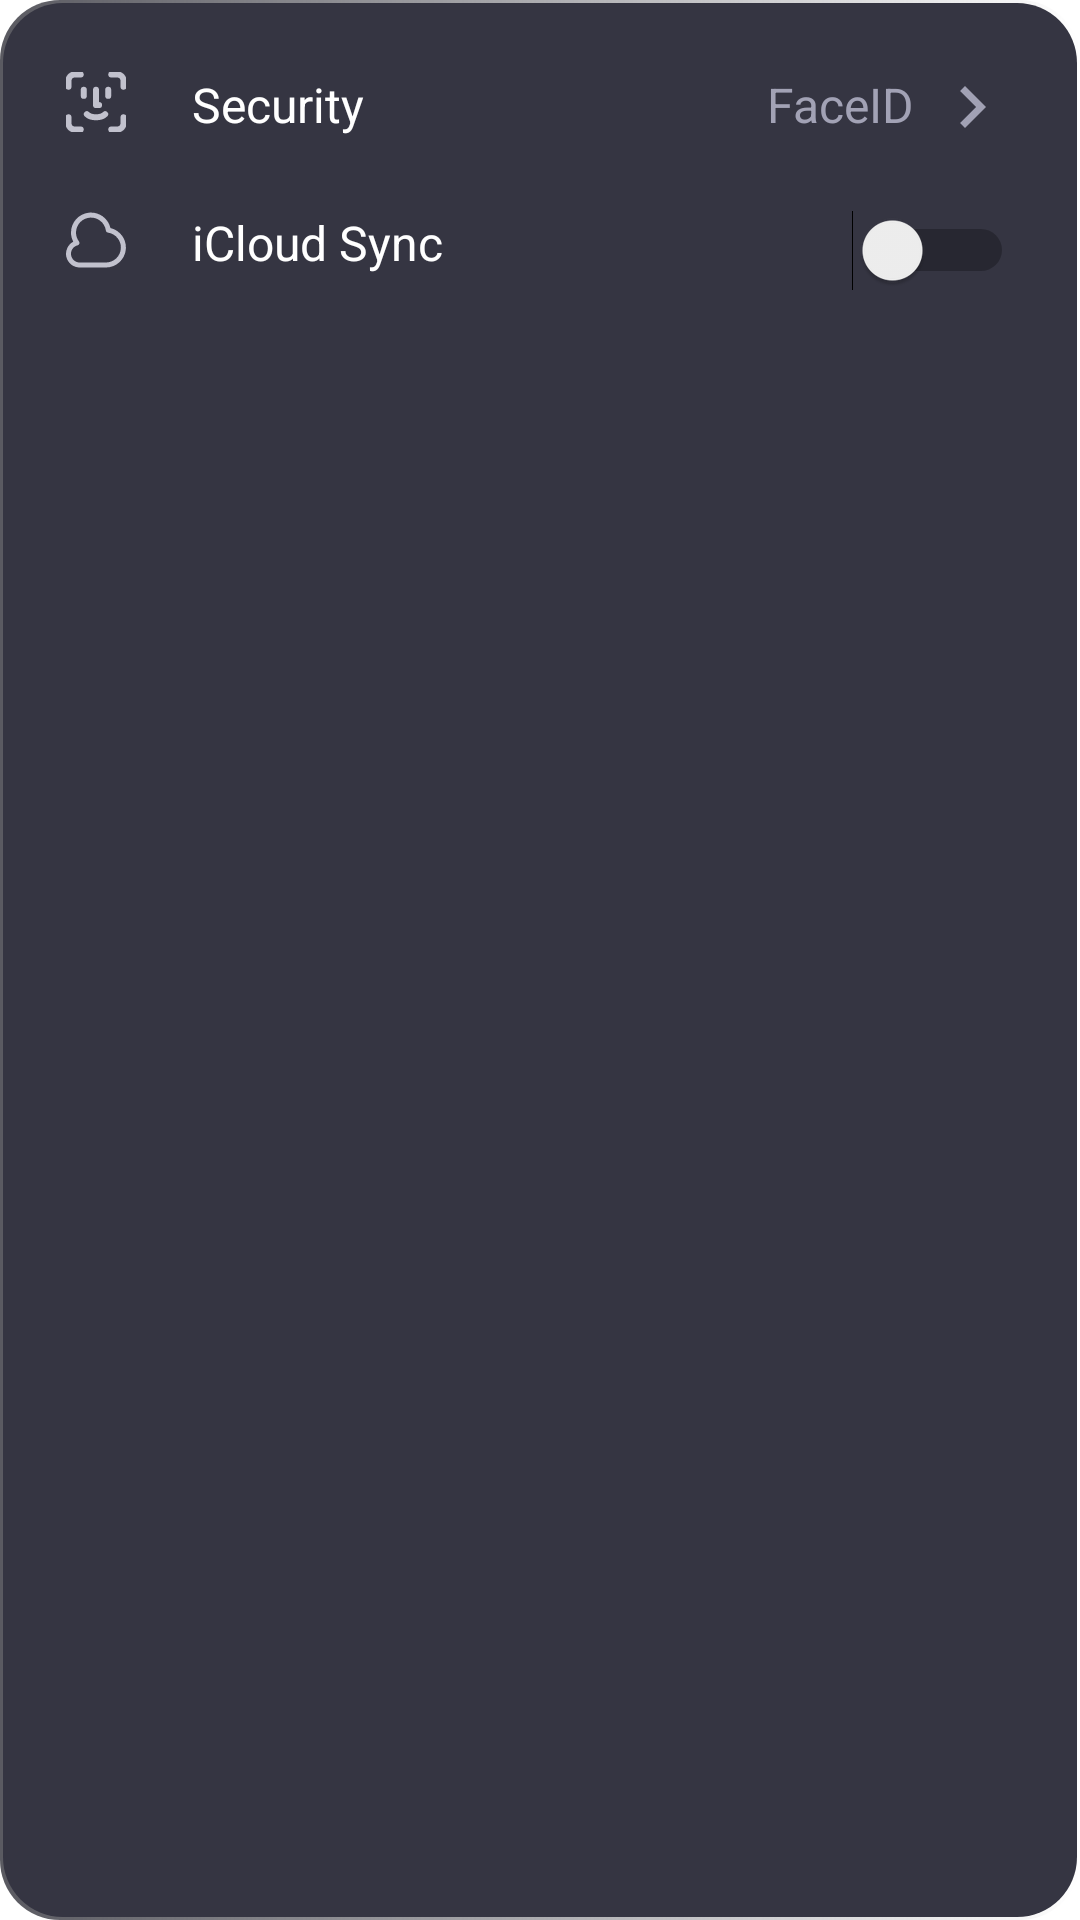

Icon bounding boxes for this 1080px×1920px phone screenshot, format (x1, y1, x2, y2):
face id: (66, 72, 126, 132)
icload: (66, 212, 126, 268)
right: (960, 86, 986, 128)
